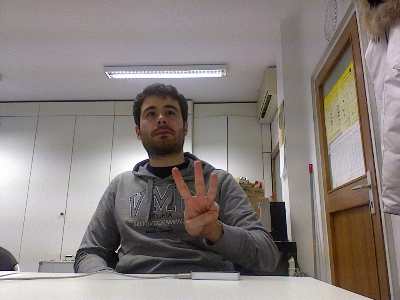三分: (169, 159, 222, 238)
